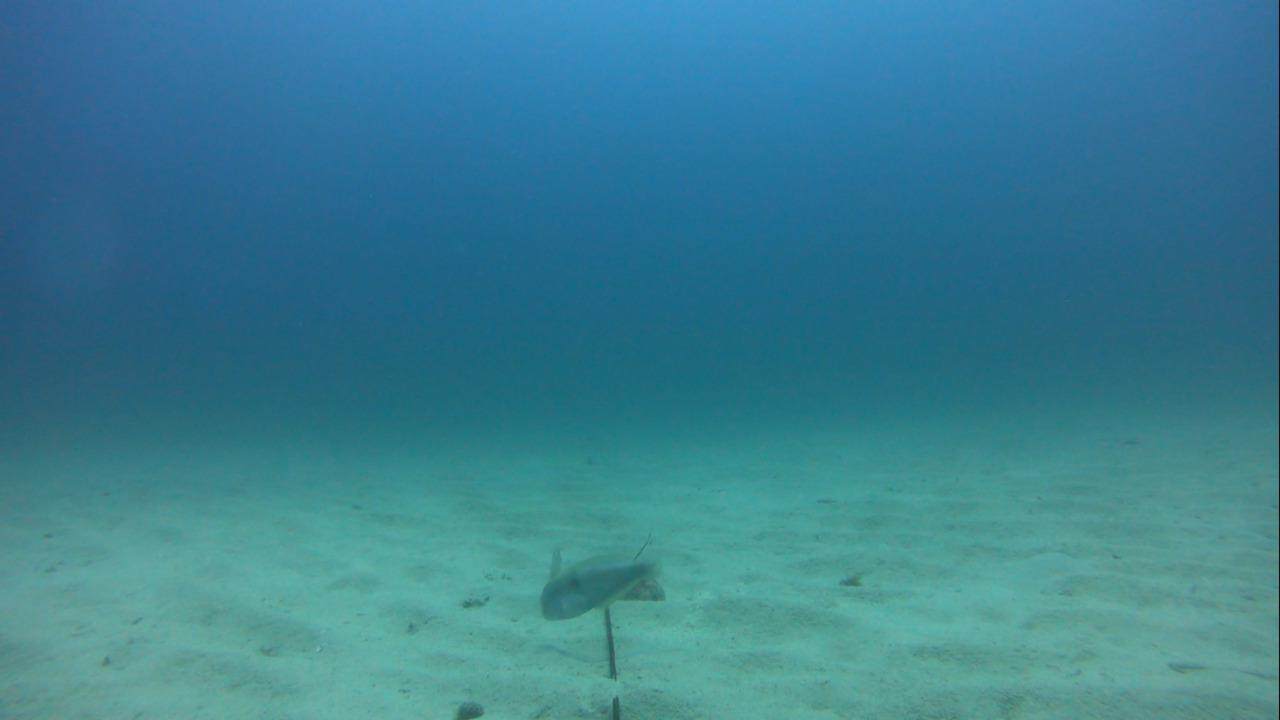raor: (536, 551, 658, 623)
